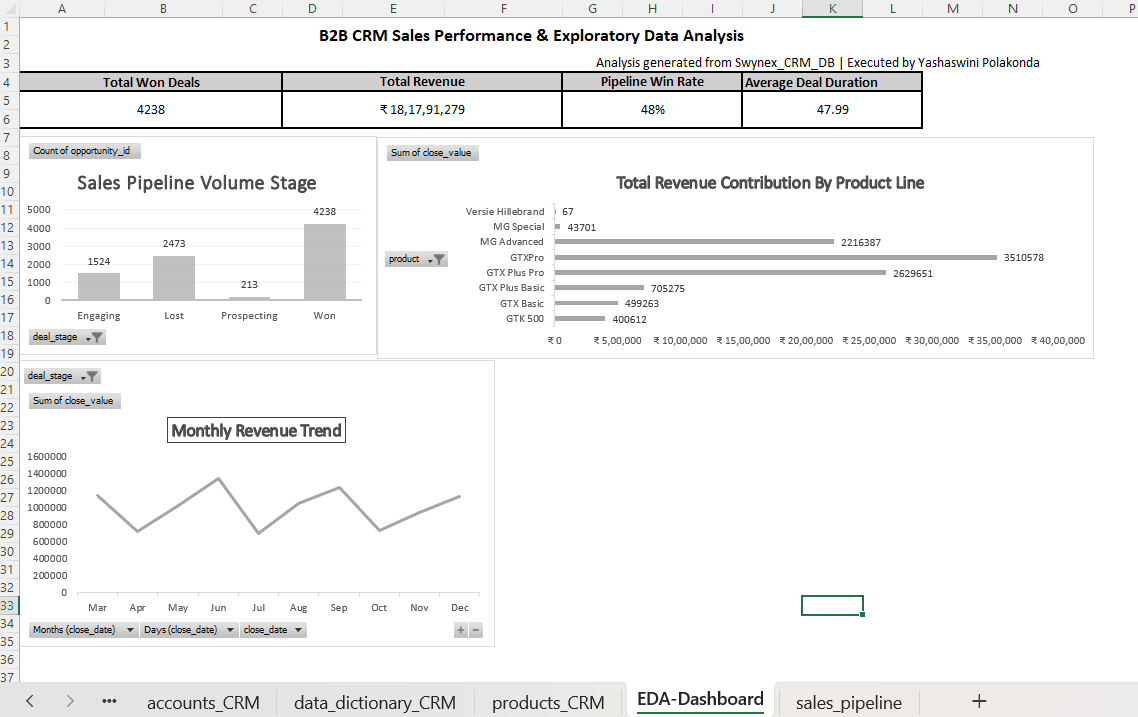

This screenshot's page, from the dashboard's own definition file:
{"tool":"powerbi","page":{"name":"Page 1","canvas":[1920,1080],"ordinal":0},"visuals":[{"type":"cardVisual","fields":{"Data":["_Measures.Total Revenue"]},"box":[46.7,71.1,143.3,160],"z":0},{"type":"cardVisual","fields":{"Data":["_Measures.Win Rate %"]},"box":[668.8,72.5,175,160],"z":1000},{"type":"cardVisual","fields":{"Data":["_Measures.Total Won Deals"]},"box":[233.8,72.5,155,160],"z":2000},{"type":"cardVisual","fields":{"Data":["_Measures.Total Opportunities"]},"box":[451.2,70,182.5,160],"z":3000},{"type":"cardVisual","fields":{"Data":["_Measures.Avg Deal Duration"]},"box":[896.2,72.5,228.8,157.5],"z":4000},{"type":"shape","box":[46.2,10,1350,51.2],"z":5000},{"type":"shape","box":[15,550,1421.2,245],"z":6000},{"type":"textbox","box":[32.5,10,1310,51.2],"z":7000},{"type":"clusteredColumnChart","title":"Sales Pipeline Volume by Stage","fields":{"Category":["sales_pipeline.deal_stage"],"Y":["CountNonNull(sales_pipeline.opportunity_id)"]},"box":[44.4,250,423.3,261.1],"z":8000},{"type":"clusteredBarChart","title":"Total Revenue by Product Line","fields":{"Category":["products_CRM.product"],"Y":["_Measures.Total Revenue"]},"box":[494.4,260,505.6,251.1],"z":9000},{"type":"lineChart","title":"Monthly Revenue Trend","fields":{"Category":["sales_pipeline.close_date.Variation.Date Hierarchy.Month","sales_pipeline.close_date.Variation.Date Hierarchy.Day"],"Y":["_Measures.Total Won Deals"]},"box":[1057.5,260,336.2,251.2],"z":10000},{"type":"slicer","fields":{"Values":["accounts_CRM.office_location"]},"box":[1142.5,81.2,293.8,143.8],"z":11000},{"type":"textbox","box":[73.8,566.2,1337.5,211.2],"z":12000}]}

Visuals, with their boxes on the page's 1920x1080 design canvas (x1, y1, x2, y2). These are canvas units, not pixel positions in the 1138x717 screenshot, which may show the page scaled, cropped or inside an application window:
cardVisual - _Measures.Total Revenue: <region>47, 71, 190, 231</region>
cardVisual - _Measures.Win Rate %: <region>669, 72, 844, 232</region>
cardVisual - _Measures.Total Won Deals: <region>234, 72, 389, 232</region>
cardVisual - _Measures.Total Opportunities: <region>451, 70, 634, 230</region>
cardVisual - _Measures.Avg Deal Duration: <region>896, 72, 1125, 230</region>
shape: <region>46, 10, 1396, 61</region>
shape: <region>15, 550, 1436, 795</region>
textbox: <region>32, 10, 1342, 61</region>
"Sales Pipeline Volume by Stage" clusteredColumnChart: <region>44, 250, 468, 511</region>
"Total Revenue by Product Line" clusteredBarChart: <region>494, 260, 1000, 511</region>
"Monthly Revenue Trend" lineChart: <region>1058, 260, 1394, 511</region>
slicer - accounts_CRM.office_location: <region>1142, 81, 1436, 225</region>
textbox: <region>74, 566, 1411, 777</region>
